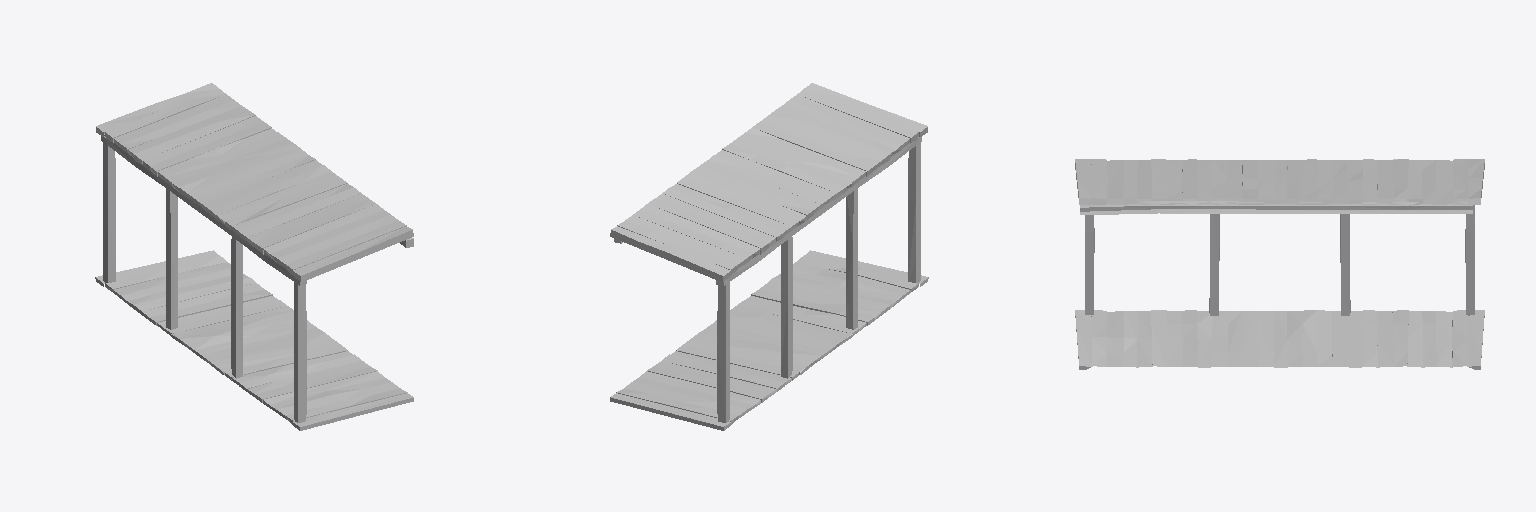
File: Porch_LOD1.obj
3 views of the same model, side by side, from view 1: azimuth 30°, elevation 25°; view 2: azimuth 150°, elevation 25°; view 3: azimuth 270°, elevation 25° (orthographic).
Parts seen in each view (by area): view 1: WildWest_Porch; view 2: WildWest_Porch; view 3: WildWest_Porch.
Part boxes in pixels (left/top/right/bottom): WildWest_Porch: left=95, top=83, right=413, bottom=430; WildWest_Porch: left=610, top=83, right=928, bottom=430; WildWest_Porch: left=1075, top=159, right=1484, bottom=369.
Size of the model in its own units: 2.43 by 3.43 by 7.4.